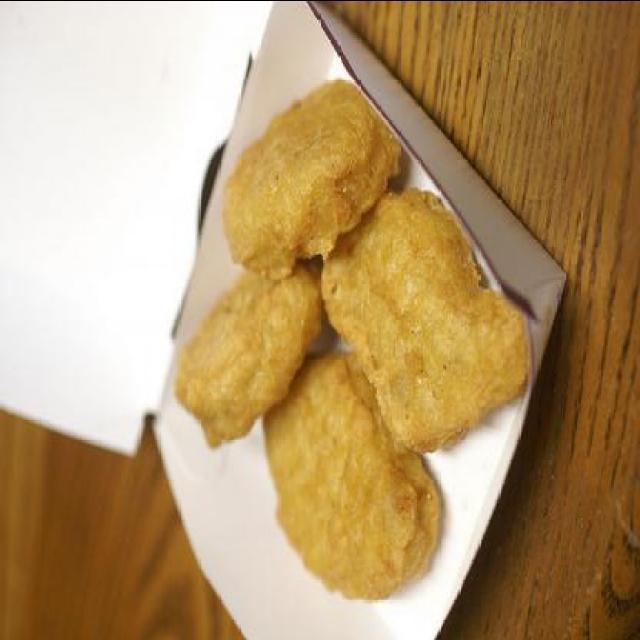Chicken nugget: (163, 54, 545, 592)
